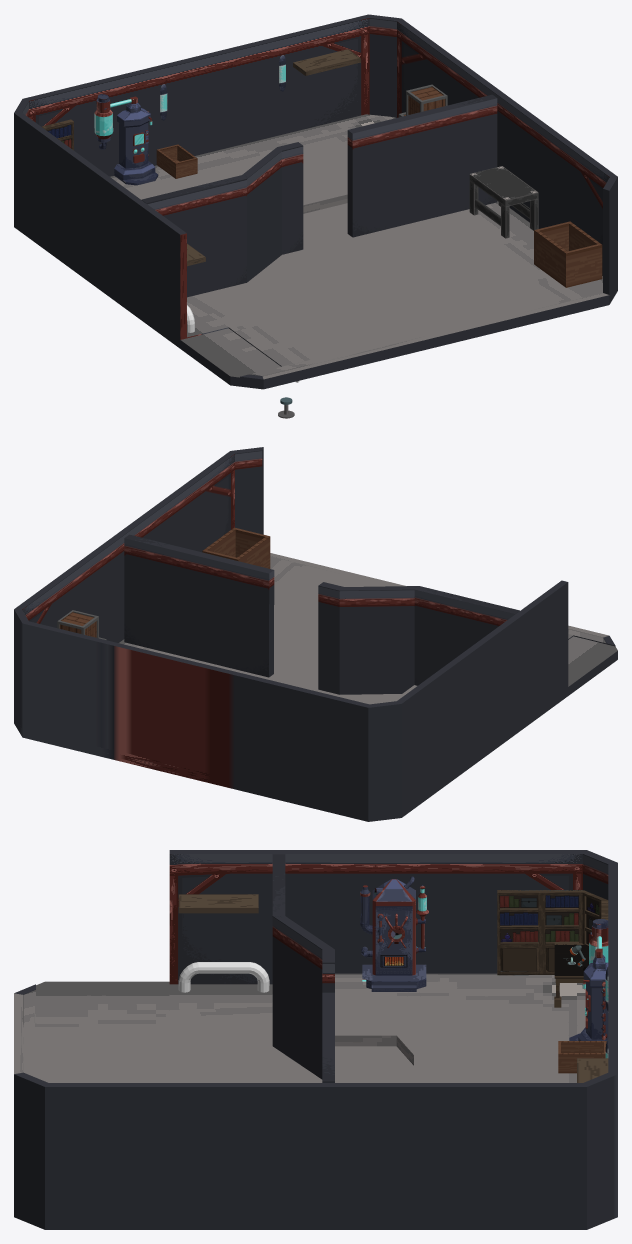
Rendered from 2F No wall 1.fbx.
The picture shows the model from 3 angles, top to bottom: view 1: azimuth 30°, elevation 25°; view 2: azimuth 150°, elevation 25°; view 3: azimuth 270°, elevation 25°; orthographic projection. The views are drawn at different scales.
Parts seen in each view (by area): view 1: ชั้น2.002, Cube.079, Cube.080, New object.009, Cube.084, Cube.085, Cube.078, Cube.086, Cube.075; view 2: ชั้น2.002, Cube.079, Cube.084, Cube.075; view 3: ชั้น2.002, Cube.080, Cube.079, New object.008, New object.010, New object.009, Cube.087, Plane.005, Cube.078, Cube.086.
Boxes of the visible parts, x1=… form: ชั้น2.002: x1=14, y1=14, x2=617, y2=389; Cube.079: x1=141, y1=94, x2=497, y2=297; Cube.080: x1=110, y1=114, x2=395, y2=213; New object.009: x1=94, y1=94, x2=158, y2=185; Cube.084: x1=534, y1=221, x2=602, y2=287; Cube.085: x1=469, y1=166, x2=538, y2=238; Cube.078: x1=156, y1=144, x2=197, y2=178; Cube.086: x1=293, y1=49, x2=360, y2=75; Cube.075: x1=406, y1=84, x2=447, y2=115; ชั้น2.002: x1=14, y1=447, x2=617, y2=821; Cube.079: x1=124, y1=534, x2=519, y2=694; Cube.084: x1=202, y1=527, x2=270, y2=568; Cube.075: x1=57, y1=610, x2=98, y2=638; ชั้น2.002: x1=14, y1=850, x2=617, y2=1229; Cube.080: x1=335, y1=973, x2=585, y2=1082; Cube.079: x1=272, y1=854, x2=334, y2=1082; New object.008: x1=497, y1=890, x2=608, y2=1007; New object.010: x1=360, y1=876, x2=428, y2=991; New object.009: x1=569, y1=919, x2=608, y2=1040; Cube.087: x1=178, y1=894, x2=258, y2=913; Plane.005: x1=178, y1=962, x2=269, y2=992; Cube.078: x1=558, y1=1041, x2=606, y2=1073; Cube.086: x1=577, y1=1058, x2=608, y2=1082.
Size of the model in its own units: 404 by 214 by 436.
27 materials, 21 textured.
